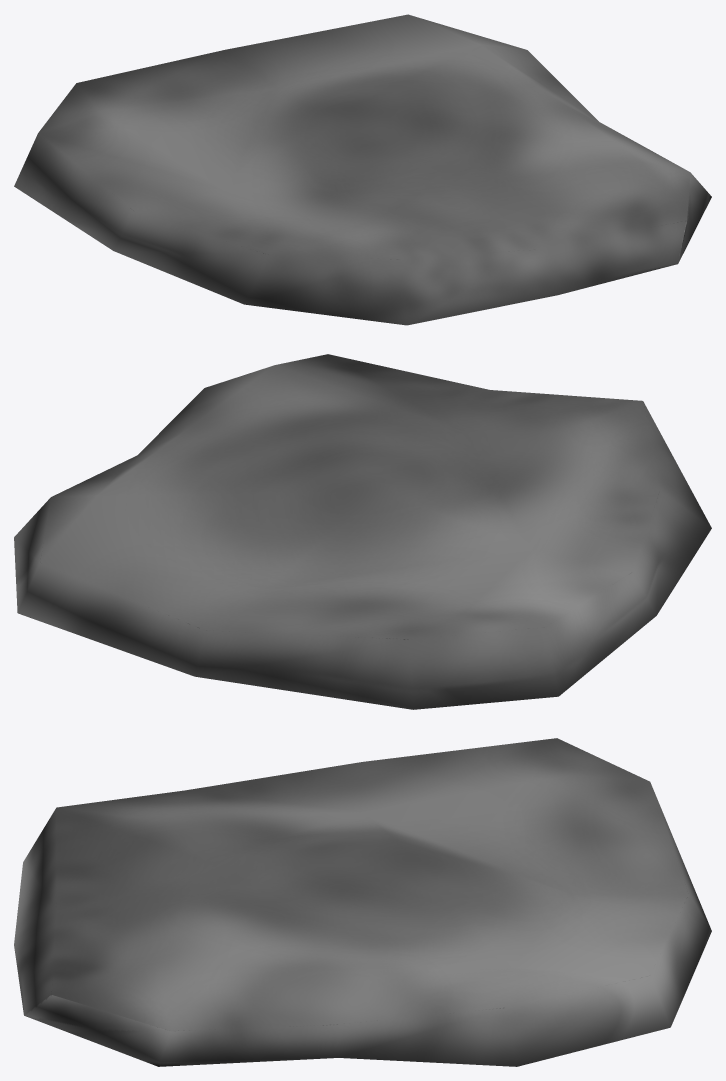
Rendered from Rock.fbx.
The picture shows the model from 3 angles, top to bottom: view 1: azimuth 30°, elevation 25°; view 2: azimuth 150°, elevation 25°; view 3: azimuth 270°, elevation 25°; orthographic projection. The views are drawn at different scales.
Parts seen in each view (by area): view 1: Plane; view 2: Plane; view 3: Plane.
Part boxes in pixels (<box>): Plane: <box>14,14,711,325</box>; Plane: <box>14,354,711,709</box>; Plane: <box>14,738,711,1066</box>.
Bounding box in the file's own units: 289 × 36.47 × 306.
1 material, 1 textured.
